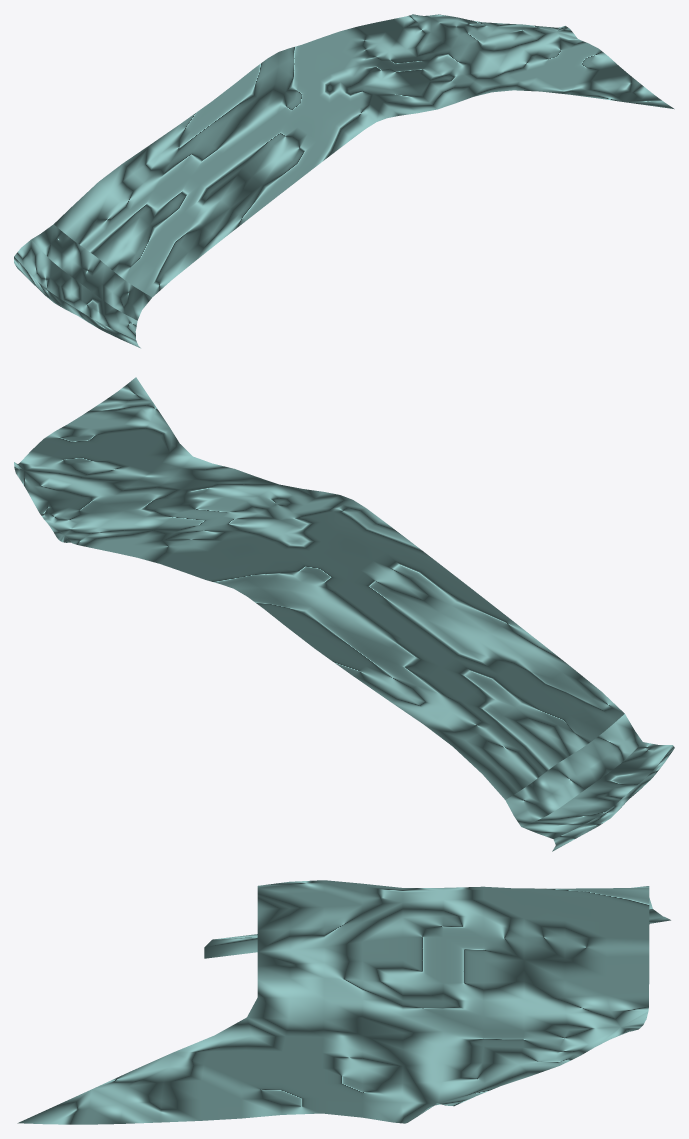
Rendered from planter_soil_corner_d.glb.
3 renders of one model, top to bottom at view 1: azimuth 30°, elevation 25°; view 2: azimuth 150°, elevation 25°; view 3: azimuth 270°, elevation 25°, orthographic. The views are drawn at different scales.
Bounding box in the file's own units: 14.54 × 4.45 × 8.1.
